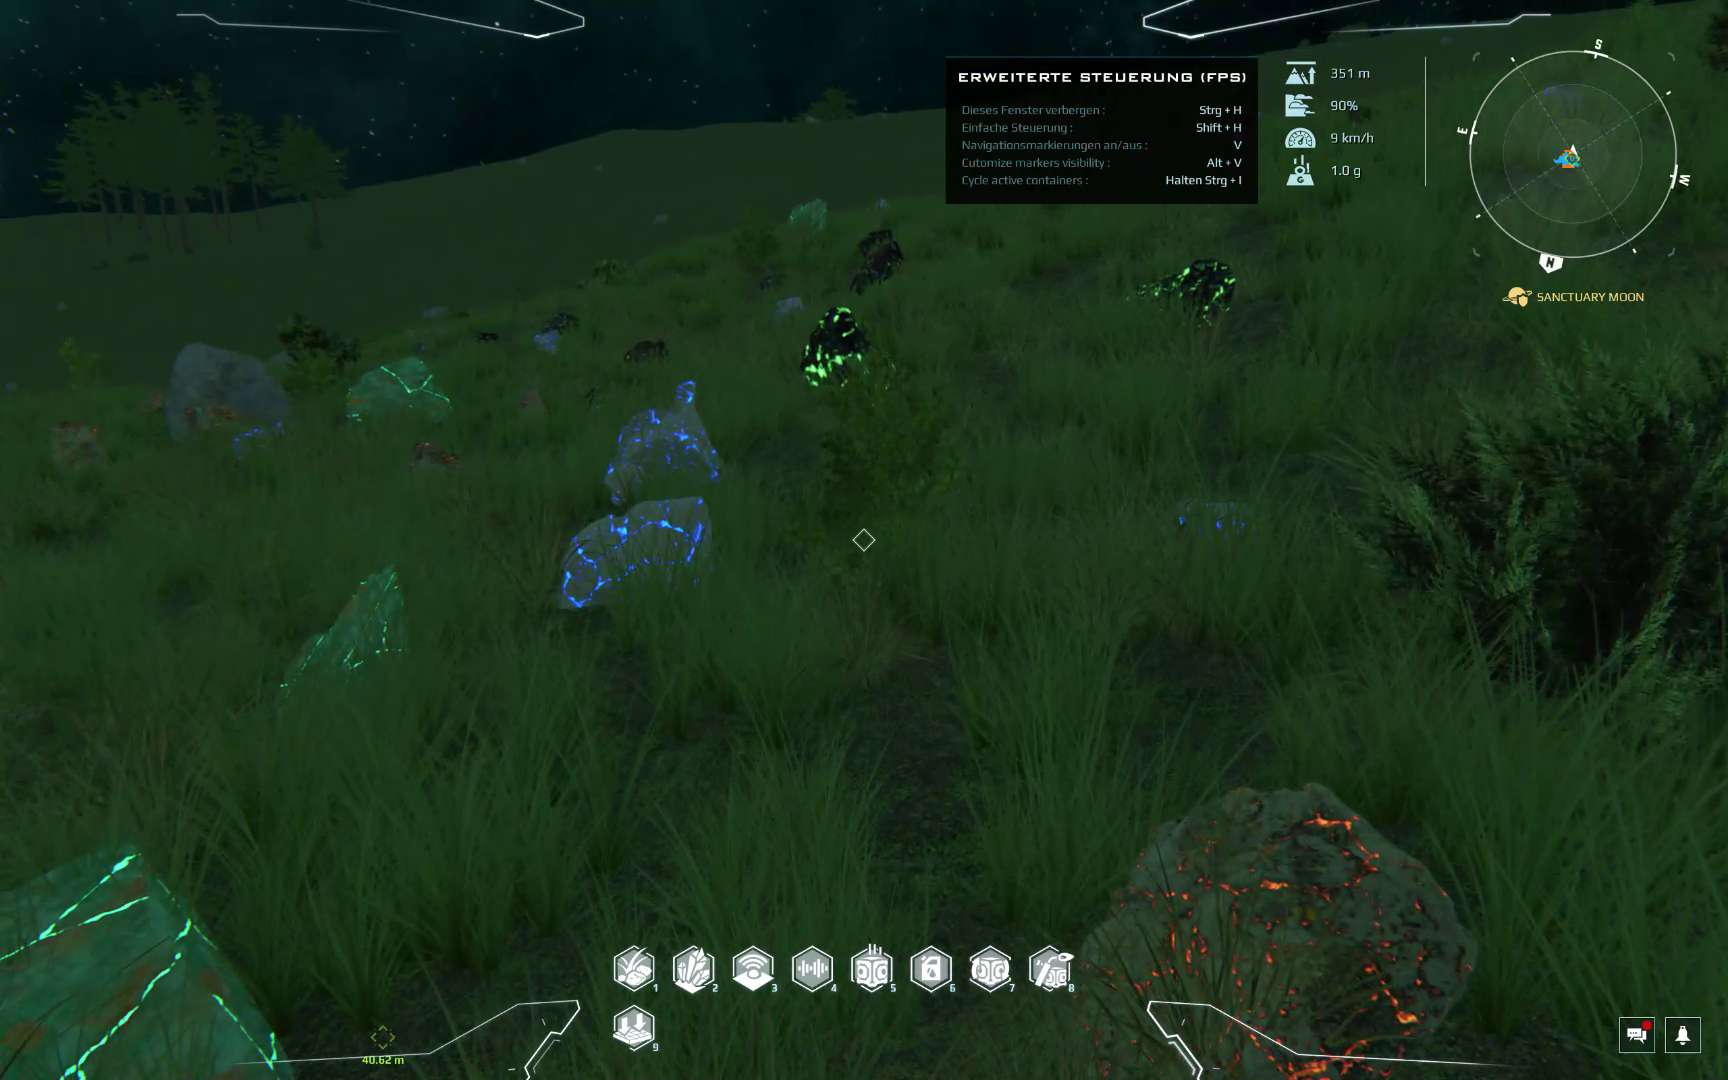Ore: (1069, 780, 1488, 1080), (554, 489, 717, 613), (277, 557, 409, 701), (600, 379, 727, 494), (1113, 250, 1237, 335), (801, 302, 904, 396), (336, 353, 457, 426), (1158, 490, 1271, 547), (37, 411, 123, 484), (851, 226, 904, 295), (178, 397, 238, 447), (404, 431, 463, 474), (230, 419, 287, 458), (616, 333, 671, 366), (136, 388, 170, 432), (539, 309, 585, 338), (524, 328, 570, 356), (470, 327, 504, 352)
